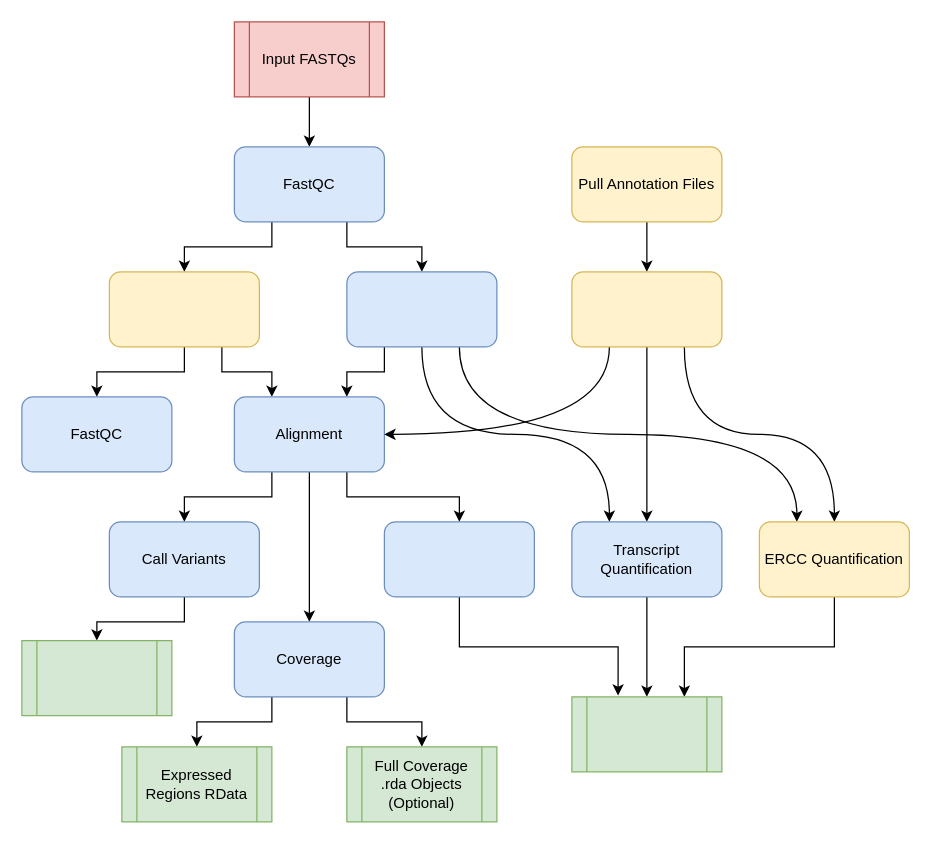
This 931x844 diagram has some shape labels left out. The centre of each missing label's shape, as x and y in pixels:
Build Annotation-related Indices/ Objects: the point at 646,309
Infer Strandness: the point at 421,309
One merged VCF: the point at 96,677
Quantify genes, exons, and exon-exon junctions: the point at 458,559
Ranged Summarized Experiment + .rda Objects: the point at 646,734
Trimming: the point at 183,309
